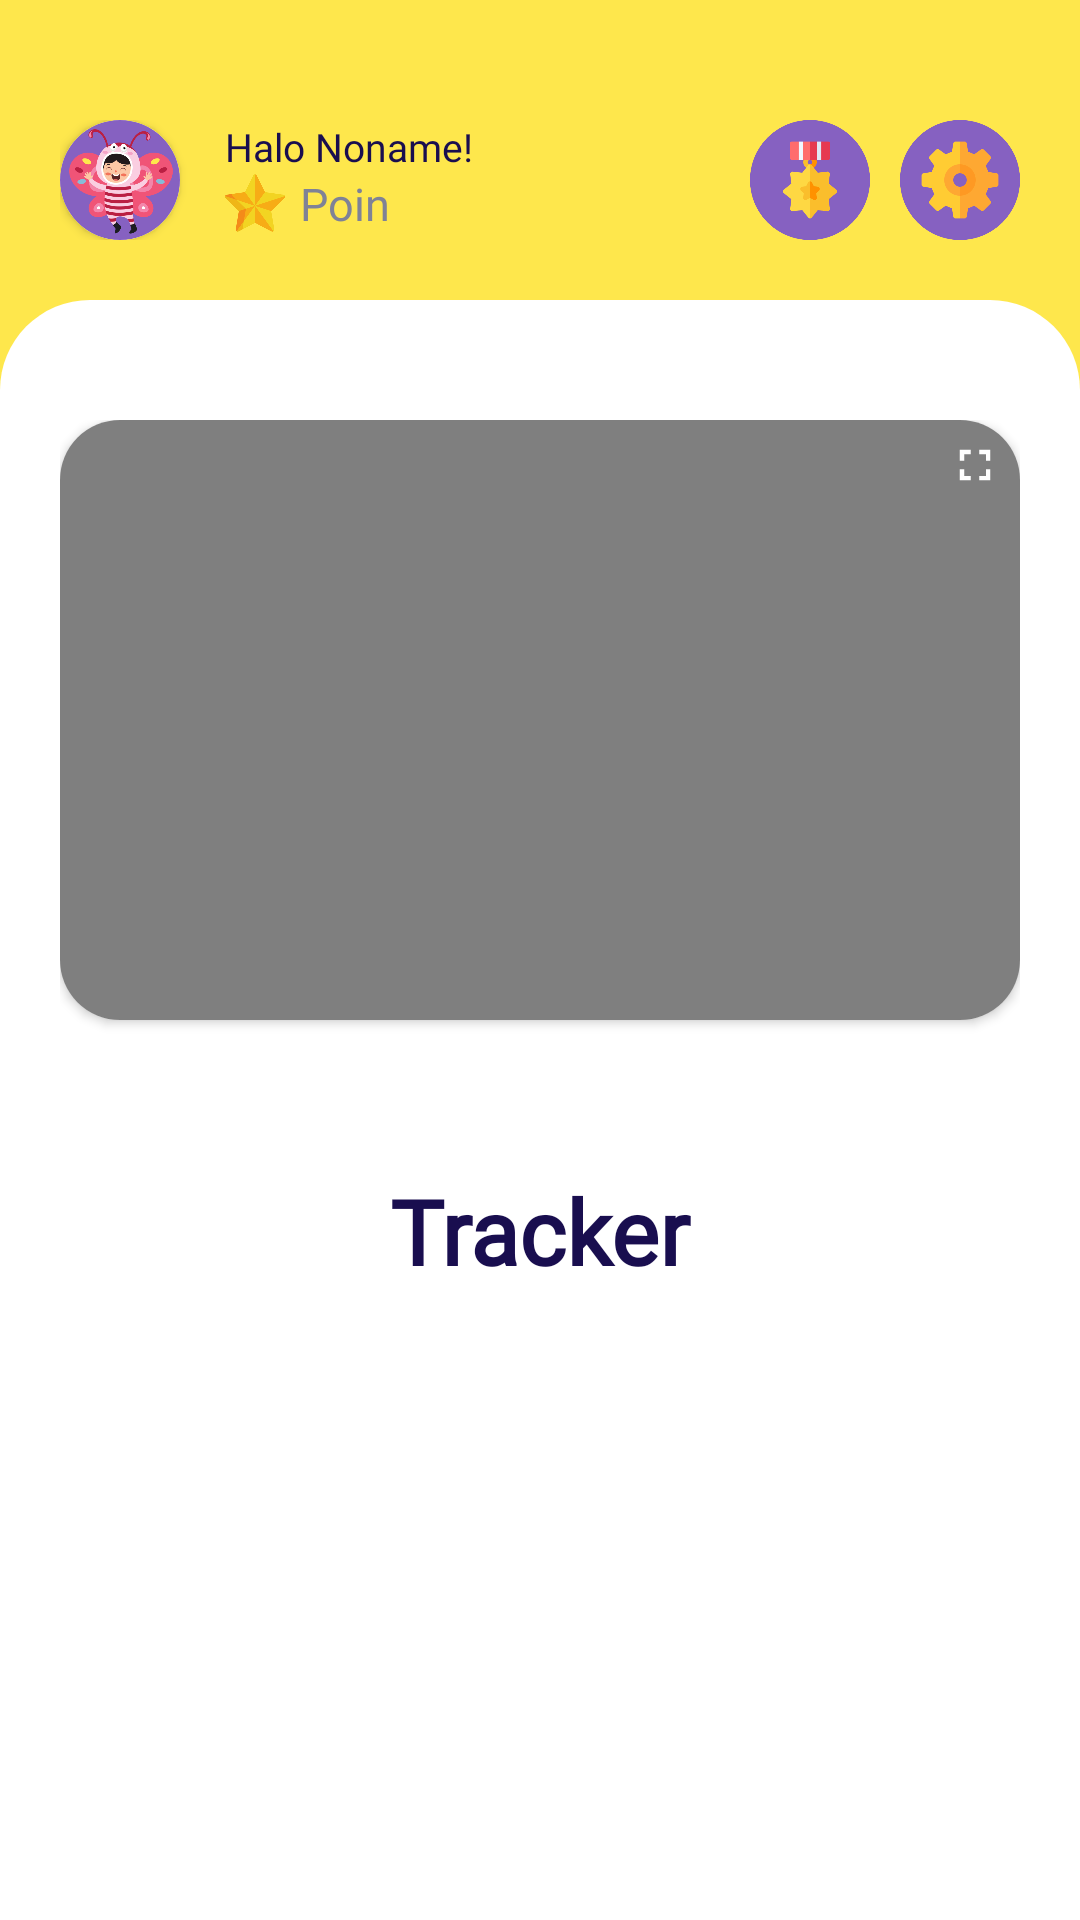

Named icons in this screenshot (1080 × 1920) and their centers, point (x, y):
fullscreen: point (975, 465)
